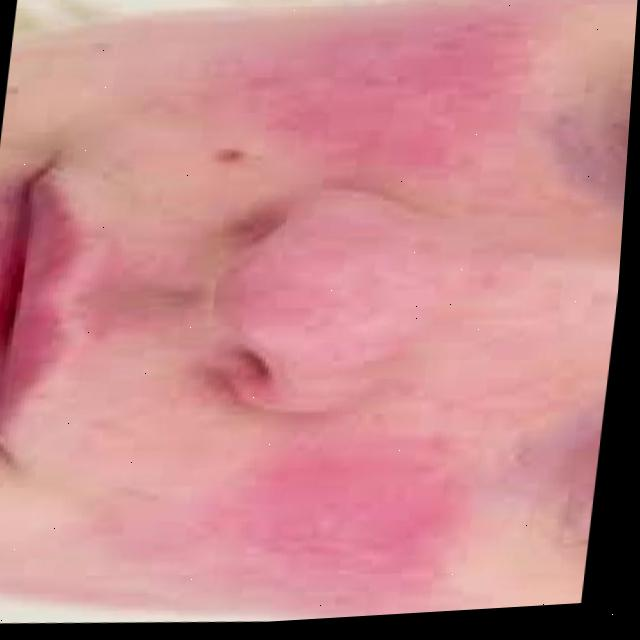Rosacea: (105, 413, 491, 631), (206, 7, 548, 213)
